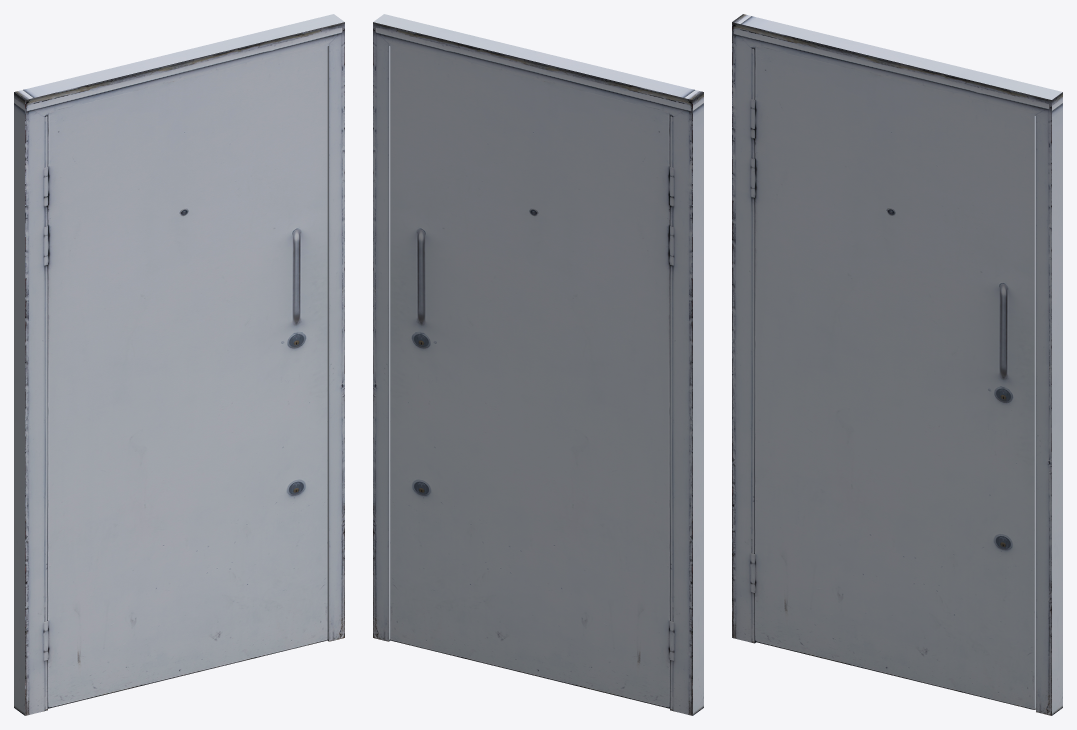
Rendered from sp_door_office.FBX.
The picture shows the model from 3 angles, left to right: view 1: azimuth 30°, elevation 25°; view 2: azimuth 150°, elevation 25°; view 3: azimuth 330°, elevation 25°; orthographic projection.
Parts seen in each view (by area): view 1: sp_door_office_op, sp_door_office; view 2: sp_door_office_op, sp_door_office; view 3: sp_door_office_op, sp_door_office.
Part boxes in pixels (x1=…): sp_door_office_op: x1=48, y1=46, x2=327, y2=708; sp_door_office: x1=14, y1=14, x2=344, y2=715; sp_door_office_op: x1=390, y1=46, x2=669, y2=708; sp_door_office: x1=373, y1=14, x2=703, y2=715; sp_door_office_op: x1=755, y1=47, x2=1035, y2=709; sp_door_office: x1=732, y1=14, x2=1062, y2=715.
Bounding box in the file's own units: 49.21 × 2.95 × 90.55.
